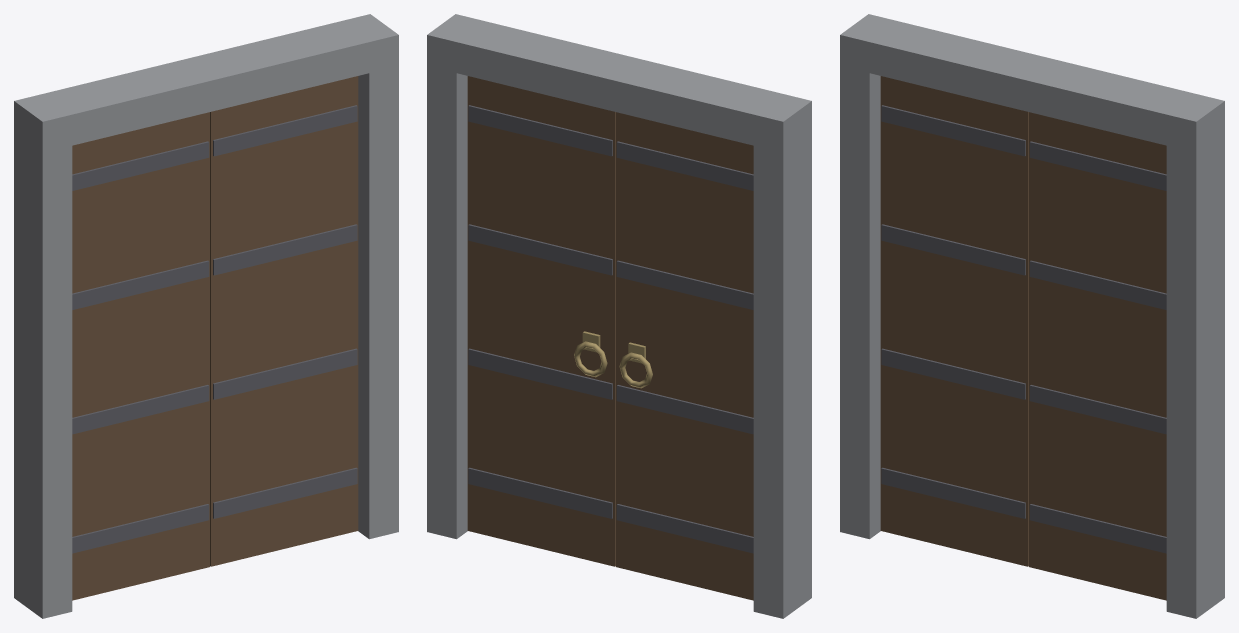
Rendered from GreatDoor.fbx.
The picture shows the model from 3 angles, left to right: view 1: azimuth 30°, elevation 25°; view 2: azimuth 150°, elevation 25°; view 3: azimuth 330°, elevation 25°; orthographic projection.
Visible parts, largest first — view 1: GreatDoor, LeafR, LeafL; view 2: GreatDoor, LeafR, LeafL; view 3: GreatDoor, LeafL, LeafR.
Part boxes in pixels (left/top/right/bottom): GreatDoor: left=14, top=14, right=398, bottom=618; LeafR: left=210, top=76, right=358, bottom=566; LeafL: left=72, top=112, right=209, bottom=600; GreatDoor: left=427, top=14, right=811, bottom=618; LeafR: left=467, top=76, right=615, bottom=566; LeafL: left=616, top=112, right=753, bottom=600; GreatDoor: left=840, top=14, right=1224, bottom=618; LeafL: left=880, top=76, right=1028, bottom=566; LeafR: left=1029, top=112, right=1166, bottom=600.
Size of the model in its own units: 3.6 by 4.8 by 0.5.
